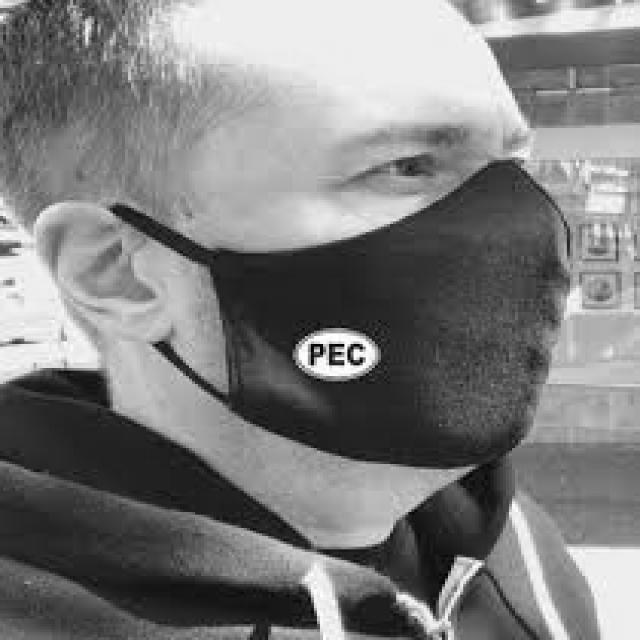fake: (121, 158, 571, 476)
real: (181, 3, 535, 464)
